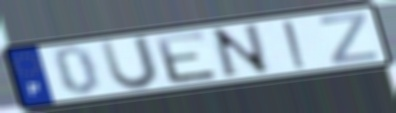0: (52, 44, 102, 98)
E: (151, 29, 222, 86)
I: (280, 18, 311, 71)
N: (208, 22, 276, 81)
U: (97, 33, 162, 92)
Z: (317, 10, 381, 66)
